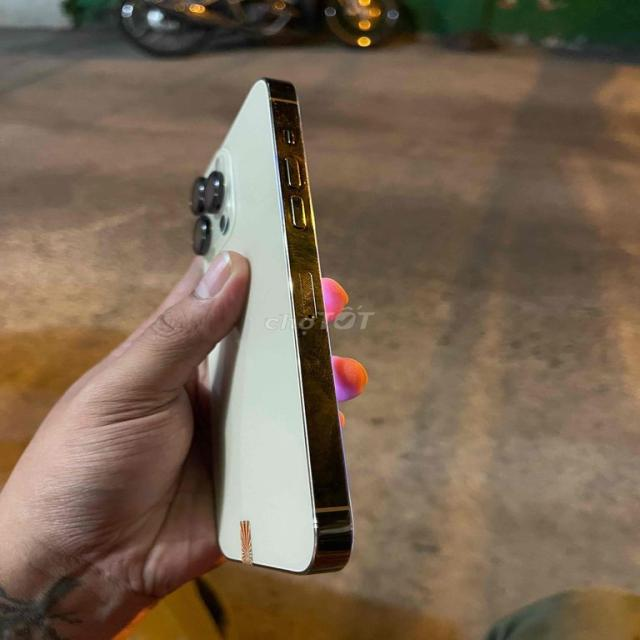gen_14: (172, 71, 376, 594)
scratch: (281, 267, 338, 372), (278, 208, 339, 241), (271, 90, 307, 138)
